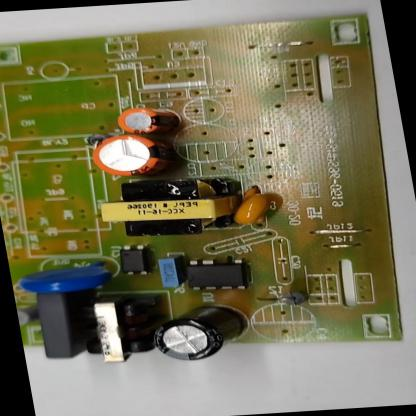Cap1: (90, 132, 164, 177)
Cap2: (115, 106, 180, 135)
Cap3: (147, 304, 245, 364)
MOSFET: (185, 258, 249, 292)
Mov: (15, 258, 113, 295)
Resistor: (17, 306, 37, 326)
Transformer: (96, 177, 241, 239), (78, 298, 153, 362)
